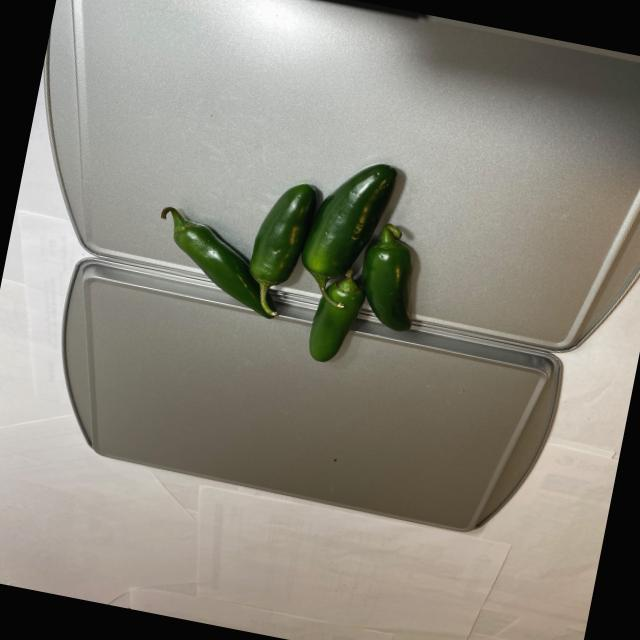chilli: (140, 125, 452, 384)
